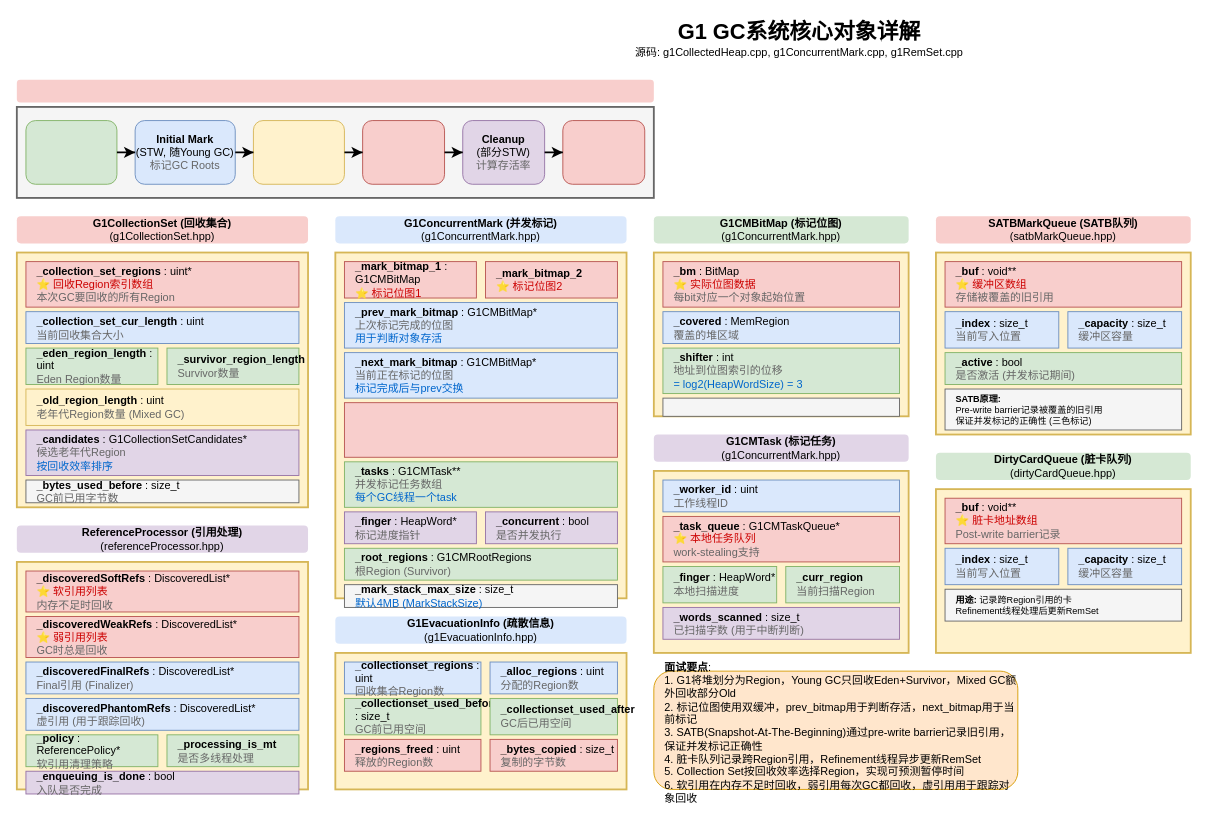
Some shapes in this 1207 by 820 pixel diagram are drawn without their labels. The shapes that lost their labels are listed below. From the top down, each one's box as (x1, y1, x2, y2) in pixels, then its label:
(16, 79, 653, 102): G1 GC 流程概览
(25, 120, 117, 184): Young GC (STW) 复制Eden+Survivor
(253, 120, 344, 184): Concurrent Mark (并发) 遍历对象图
(362, 120, 445, 184): Remark (STW) 处理SATB
(562, 120, 645, 184): Mixed GC (STW) 回收Young+部分Old
(662, 397, 900, 416): 大小计算: 8GB堆 / 8字节 / 8 = 128MB
(344, 402, 617, 457): _global_mark_stack : G1CMMarkStack ⭐ 全局标记栈 存放待扫描的灰色对象 默认4MB
